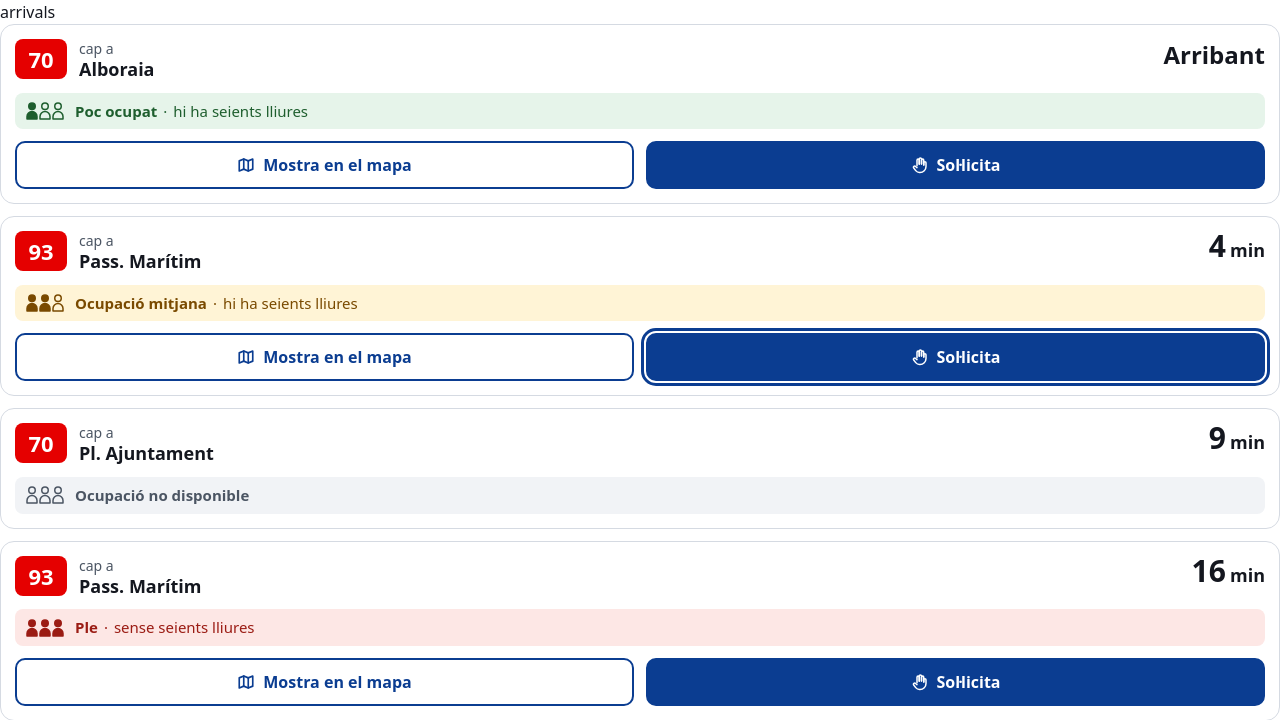
Scenario: RequestDialog › [passenger_alert_ui.AC-06] the 429 message is in Valencian too
This screenshot has width=1280, height=720.
Click the button named "Sol·licita parada a la línia 93 cap a Passeig Marítim - Hospital Malva-rosa" at [956, 357], box 646,333 -> 1265,381
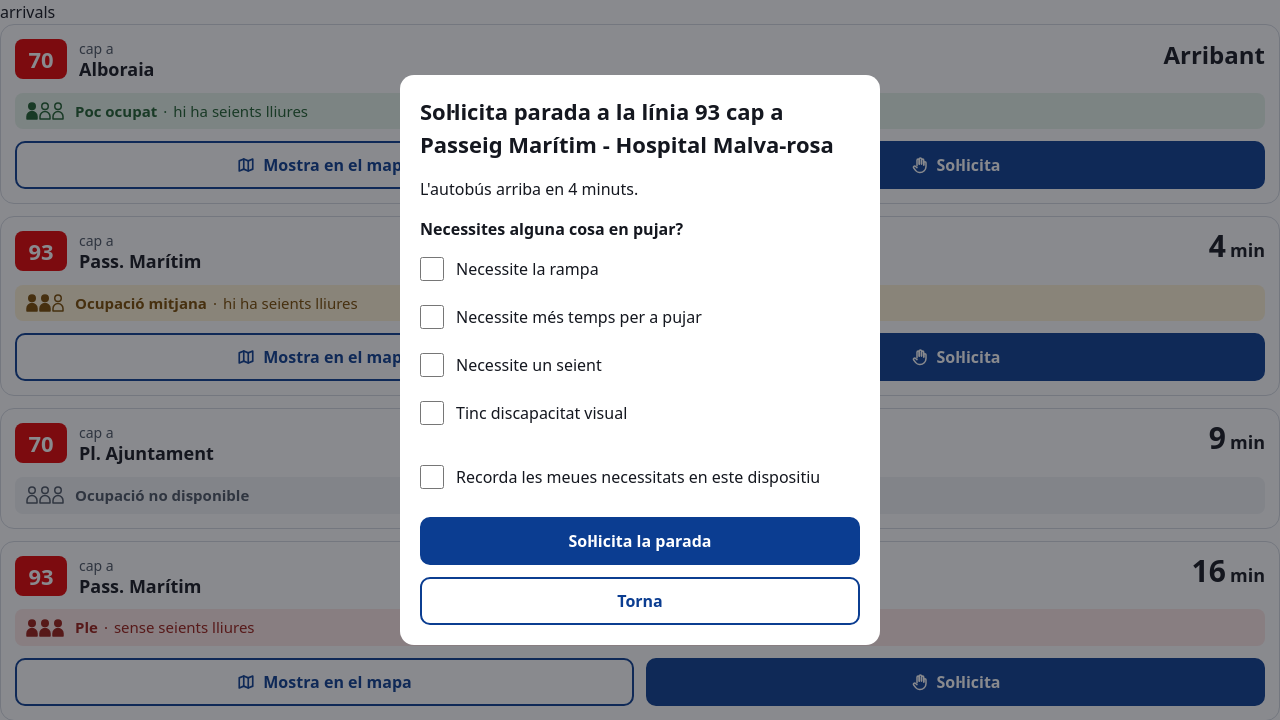
Click the button "Sol·licita la parada" at [640, 541], box 420,517 -> 860,565
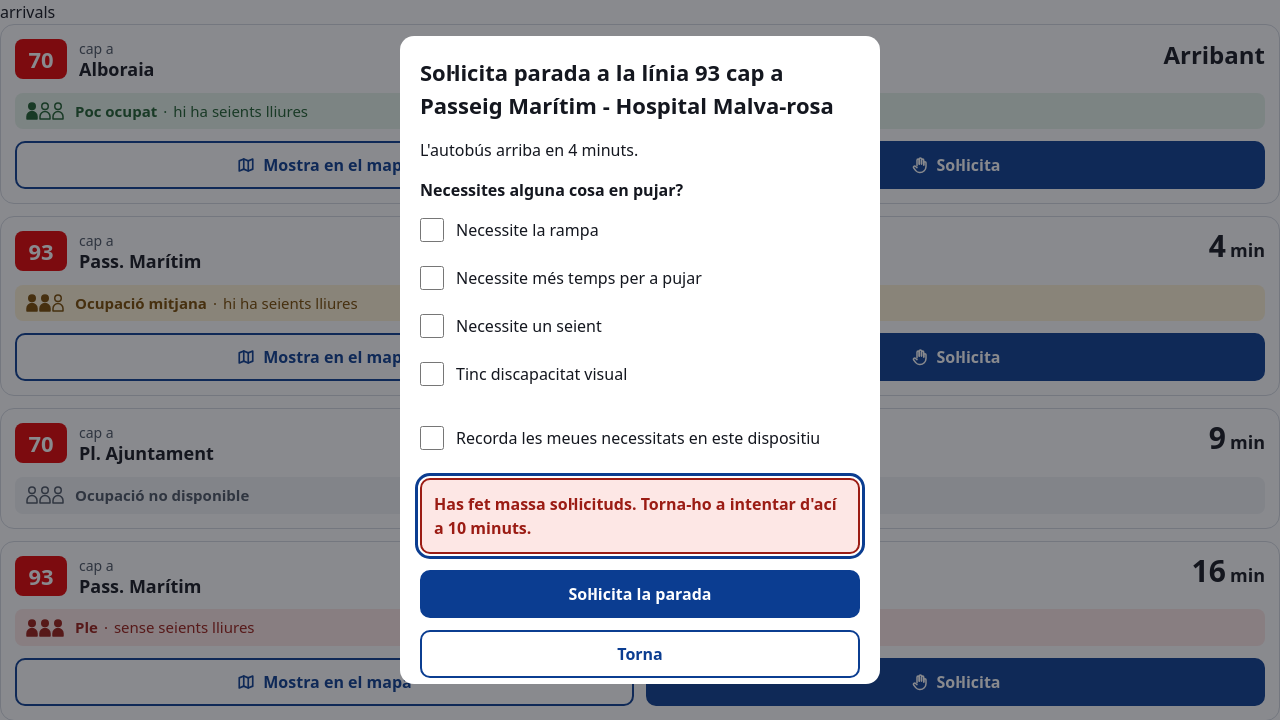
Expected: the message reads "Has fet massa sol·licituds. Torna-ho a intentar d'ací a 10 minuts.", 434,493 -> 836,539
